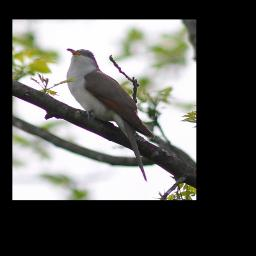Cuckoo: (65, 48, 156, 184)
